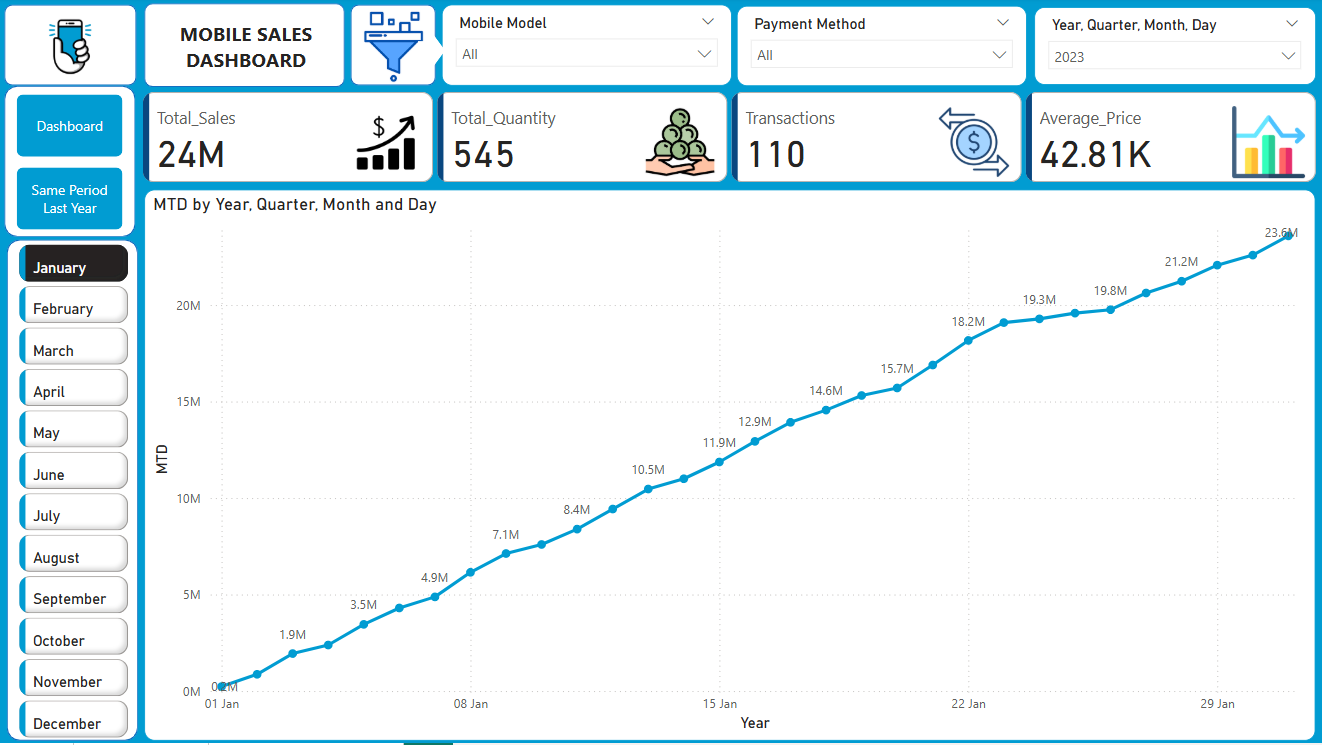

What the dashboard file says about the page in this screenshot:
{"tool":"powerbi","page":{"name":"MTD Report","canvas":[1280,720],"ordinal":1},"visuals":[{"type":"shape","box":[5.5,6.9,127.6,78.2],"z":0},{"type":"image","box":[9.6,8.2,119.4,78.2],"z":1000},{"type":"shape","box":[6,85.7,126.7,146],"z":2000},{"type":"cardVisual","fields":{"Data":["Mobile_Sales_Data.Total_Sales","Mobile_Sales_Data.Total_Quantity","Mobile_Sales_Data.Transactions","Mobile_Sales_Data.Average_Price"]},"box":[135.1,86.9,1144.9,97.7],"z":3000},{"type":"slicer","fields":{"Values":["Mobile_Sales_Data.Payment Method"]},"box":[713,8.4,279.9,77.2],"z":4000},{"type":"slicer","fields":{"Values":["Mobile_Sales_Data.Mobile Model"]},"box":[428.3,7.2,279.9,78.4],"z":5000},{"type":"slicer","fields":{"Values":["Custom_Calendar.Date.Variation.Date Hierarchy.Year","Custom_Calendar.Date.Variation.Date Hierarchy.Quarter","Custom_Calendar.Date.Variation.Date Hierarchy.Month","Custom_Calendar.Date.Variation.Date Hierarchy.Day"]},"box":[1000.3,9.6,271.7,75.5],"z":6000},{"type":"shape","box":[340.3,6.9,82.3,78.2],"z":7000},{"type":"image","box":[341.7,8.2,81,79.6],"z":8000},{"type":"shape","box":[404.8,34.3,26.1,35.7],"z":9000},{"type":"shape","box":[141.3,5.5,193.5,81],"z":10000},{"type":"textbox","box":[150.8,18.1,177.3,67.6],"z":11000},{"type":"shape","box":[8.4,234,126.7,483.8],"z":12000},{"type":"lineChart","fields":{"Y":["Mobile_Sales_Data.MTD"],"Category":["Custom_Calendar.Date.Variation.Date Hierarchy.Year","Custom_Calendar.Date.Variation.Date Hierarchy.Quarter","Custom_Calendar.Date.Variation.Date Hierarchy.Month","Custom_Calendar.Date.Variation.Date Hierarchy.Day"]},"box":[141.2,185.8,1130.4,532],"z":13000},{"type":"advancedSlicerVisual","fields":{"Values":["Custom_Calendar.Date.Variation.Date Hierarchy.Month"]},"box":[15.7,233.8,115.8,486.2],"z":14000},{"type":"pageNavigator","box":[18.1,94.1,102.5,130.3],"z":15000}]}

Visuals, with their boxes in screenshot pixels (x1, y1, x2, y2), scaled from the page's 1280x720 canvas onto the 1322x745 screenshot:
shape: 6, 7, 137, 88
image: 10, 8, 133, 89
shape: 6, 89, 137, 240
cardVisual - Mobile_Sales_Data.Total_Sales x Mobile_Sales_Data.Total_Quantity: 140, 90, 1321, 191
slicer - Mobile_Sales_Data.Payment Method: 736, 9, 1025, 89
slicer - Mobile_Sales_Data.Mobile Model: 442, 7, 731, 89
slicer - Custom_Calendar.Date.Variation.Date Hierarchy.Year x Custom_Calendar.Date.Variation.Date Hierarchy.Quarter: 1033, 10, 1314, 88
shape: 351, 7, 436, 88
image: 353, 8, 437, 91
shape: 418, 35, 445, 72
shape: 146, 6, 346, 90
textbox: 156, 19, 339, 89
shape: 9, 242, 140, 743
lineChart - Mobile_Sales_Data.MTD x Custom_Calendar.Date.Variation.Date Hierarchy.Year: 146, 192, 1313, 743
advancedSlicerVisual - Custom_Calendar.Date.Variation.Date Hierarchy.Month: 16, 242, 136, 744
pageNavigator: 19, 97, 125, 232
